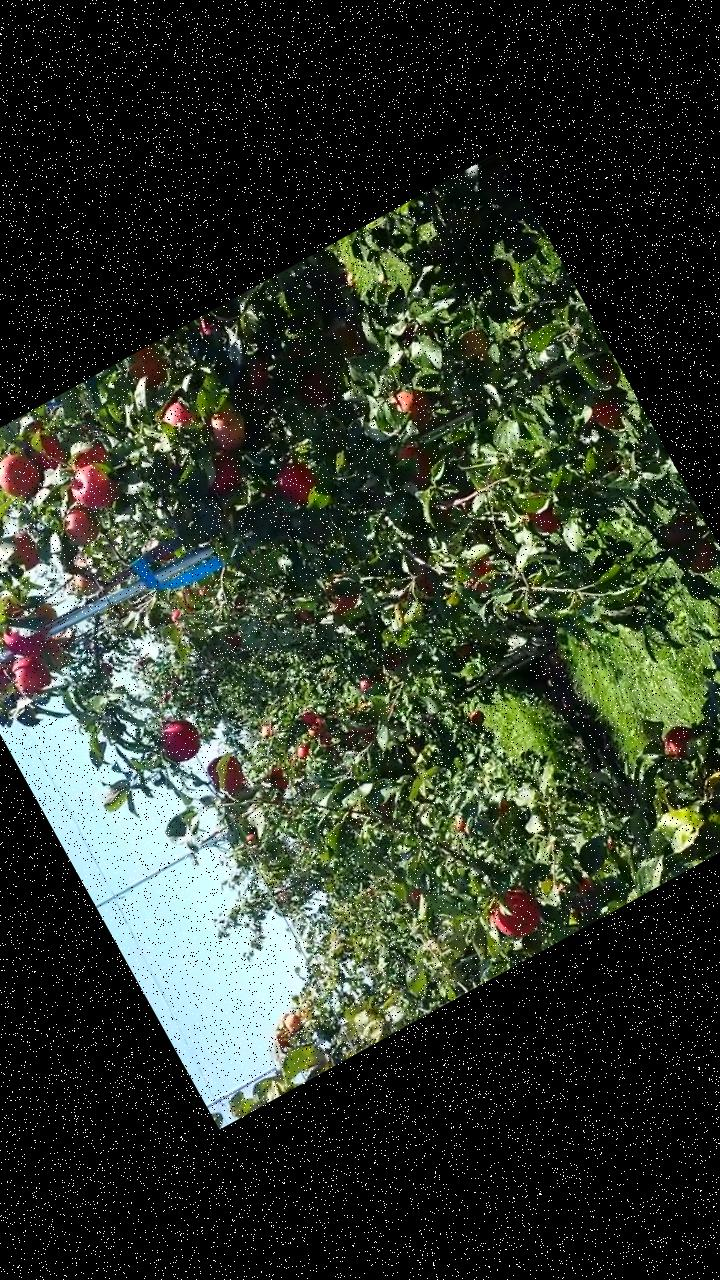Apple: (61, 452, 132, 522), (485, 884, 552, 950), (267, 453, 328, 518), (149, 710, 206, 770), (278, 362, 336, 419), (0, 612, 55, 672), (201, 402, 257, 459), (0, 448, 49, 512), (53, 498, 107, 556), (4, 650, 59, 706), (380, 380, 434, 437), (21, 424, 74, 482), (198, 748, 252, 804), (655, 714, 709, 770), (388, 438, 439, 496), (198, 448, 250, 502), (0, 526, 49, 581), (124, 346, 175, 398), (321, 317, 369, 370), (64, 438, 116, 482), (678, 532, 719, 584), (458, 554, 504, 600), (524, 500, 568, 546), (322, 582, 366, 624), (156, 398, 198, 441), (454, 322, 495, 366), (658, 510, 702, 549), (236, 356, 275, 396), (584, 396, 624, 432), (66, 566, 101, 603), (0, 588, 28, 629), (0, 660, 24, 701), (25, 602, 57, 631), (195, 314, 219, 344)
